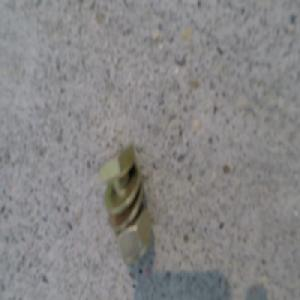BoltNutSet: (98, 145, 153, 260)
